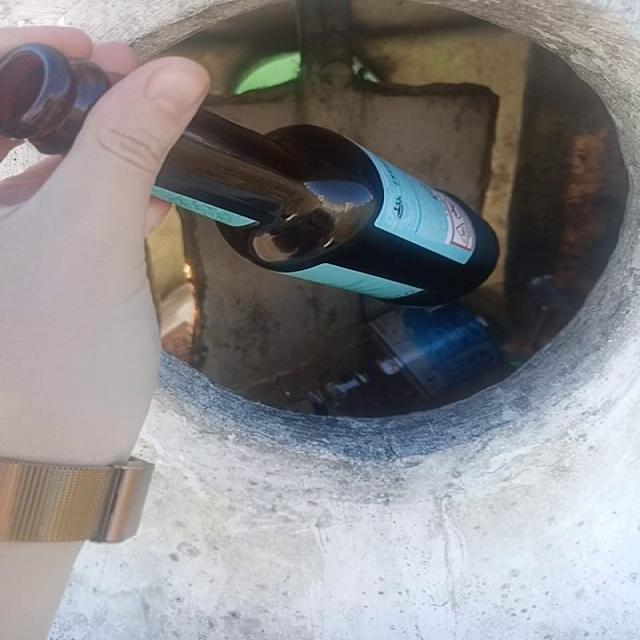glass: (151, 109, 500, 306), (1, 44, 108, 154)
